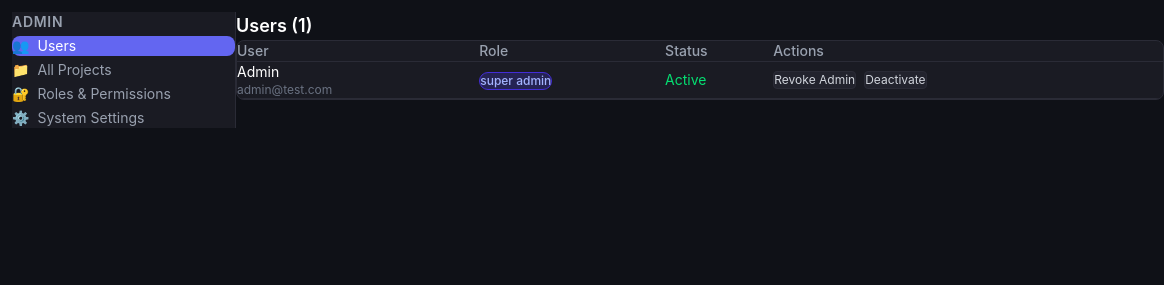
Test: AdminPage › switches section and shows correct content
Expected: the text "admin@test.com" is shown, 237,82 -> 332,97
Switch to projects
Click the button "📁 All Projects". click: (124, 70)
box: 12,60 -> 235,80
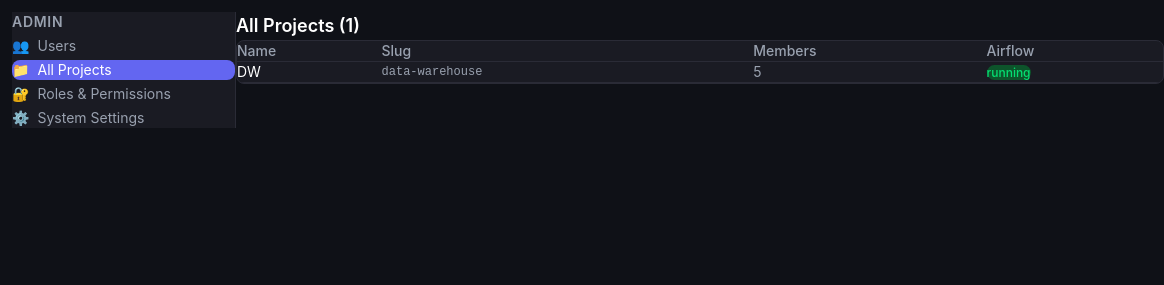
Expected: the text "DW" is shown, 237,62 -> 382,82
Switch to roles
Click the button "🔐 Roles & Permissions". click: (124, 94)
box: 12,84 -> 235,104
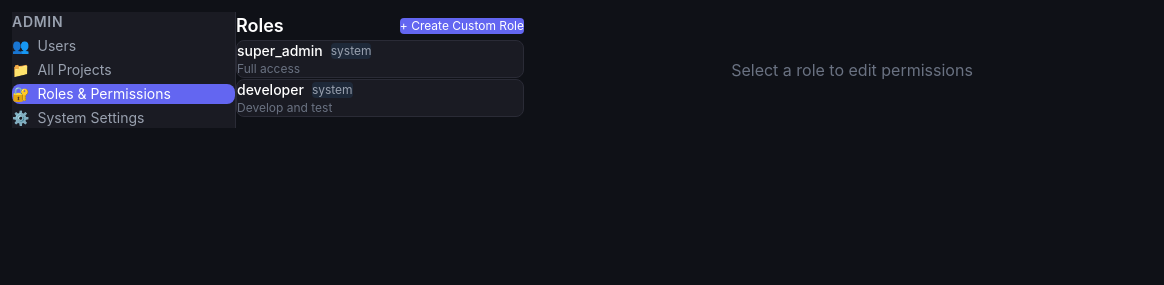
Expected: the text "super_admin" is shown, 237,41 -> 323,61
Switch to system
Click the button "⚙️ System Settings". click: (124, 118)
box: 12,108 -> 235,128
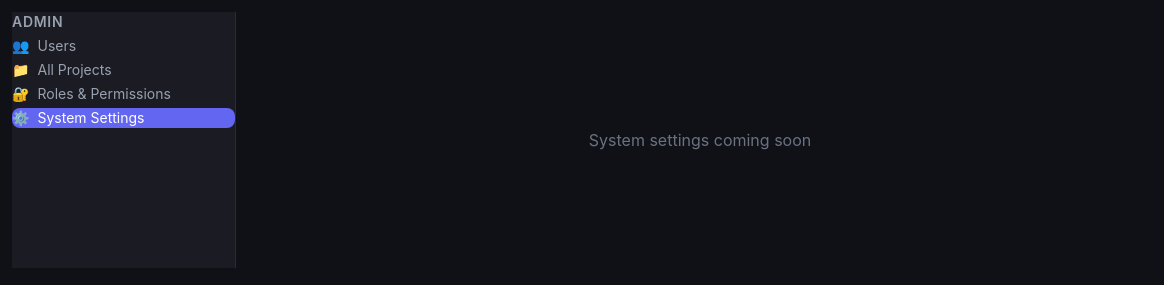
Expected: the text "System settings coming soon" is shown, 589,130 -> 811,150
